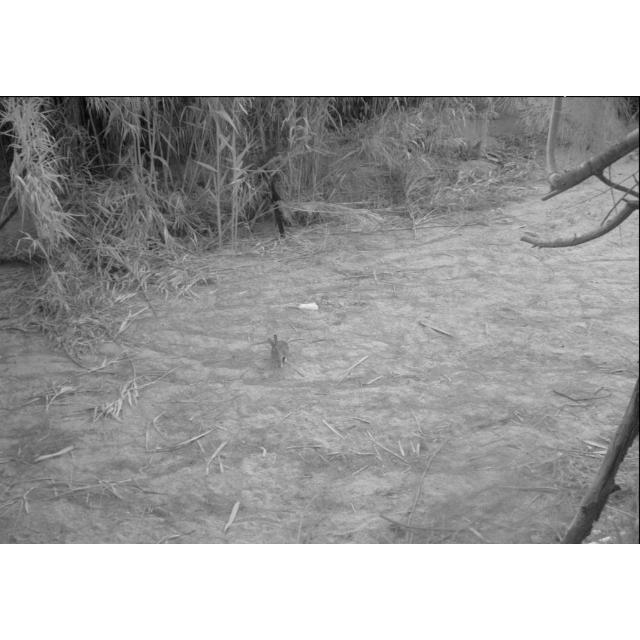animals: (267, 333, 291, 369)
